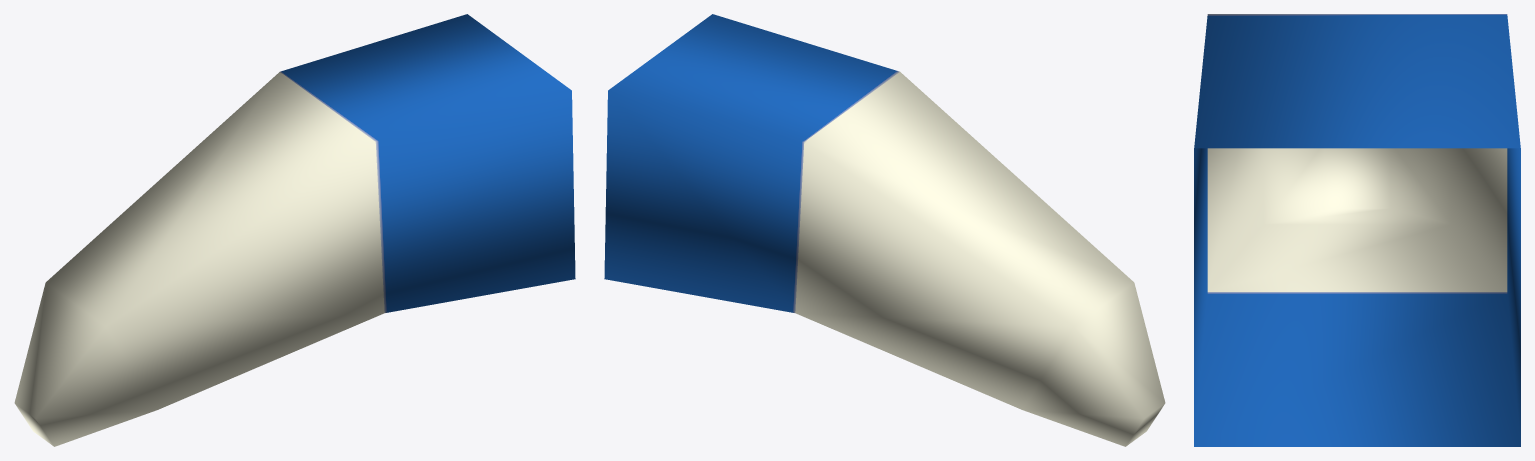
Rendered from Arm_L.obj.
3 views of the same model, side by side, from view 1: azimuth 30°, elevation 25°; view 2: azimuth 150°, elevation 25°; view 3: azimuth 270°, elevation 25° (orthographic). The views are drawn at different scales.
Visible parts, largest first — view 1: P_Arm_L; view 2: P_Arm_L; view 3: P_Arm_L.
Boxes of the visible parts, x1=… form: P_Arm_L: x1=14, y1=14, x2=575, y2=446; P_Arm_L: x1=604, y1=14, x2=1165, y2=446; P_Arm_L: x1=1194, y1=14, x2=1520, y2=446.
Bounding box in the file's own units: 0.5494 × 0.2854 × 0.1997.
1 material, 1 textured.
